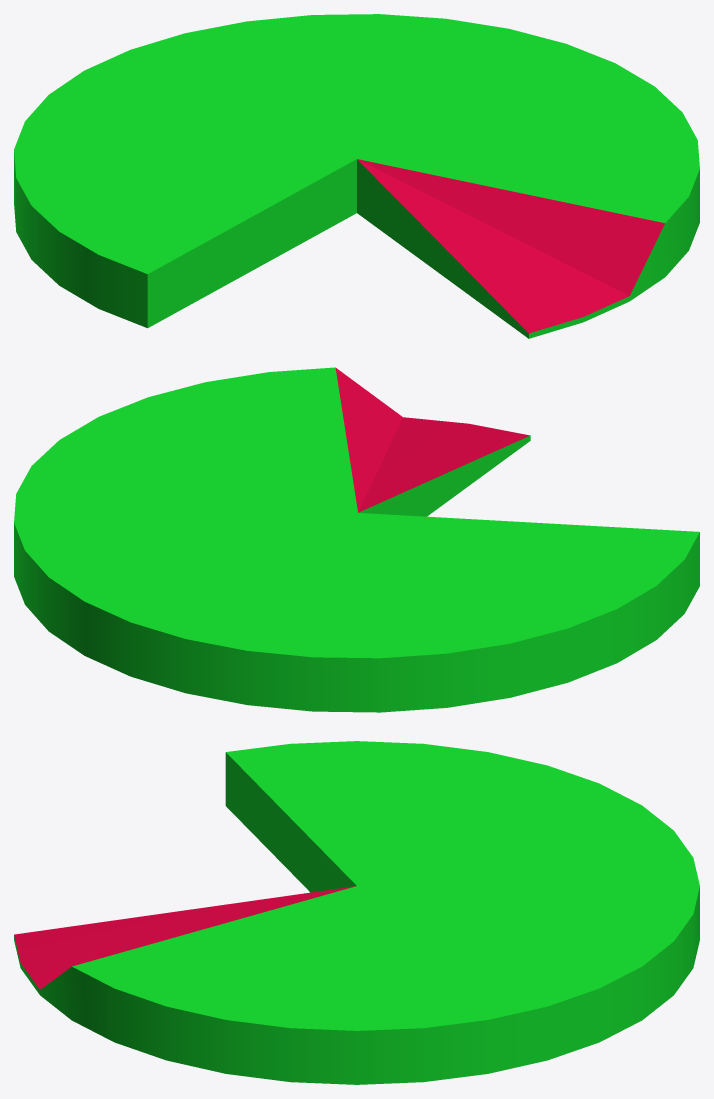
The model's file is Platofrm4.fbx.
3 renders of one model, top to bottom at view 1: azimuth 30°, elevation 25°; view 2: azimuth 150°, elevation 25°; view 3: azimuth 270°, elevation 25°, orthographic.
Parts seen in each view (by area): view 1: Platform 4; view 2: Platform 4; view 3: Platform 4.
Part boxes in pixels (x1,y1,x2,y2): Platform 4: (14, 14, 699, 338); Platform 4: (14, 367, 699, 712); Platform 4: (14, 741, 699, 1084).
Bounding box in the file's own units: 384 × 33.33 × 384.
